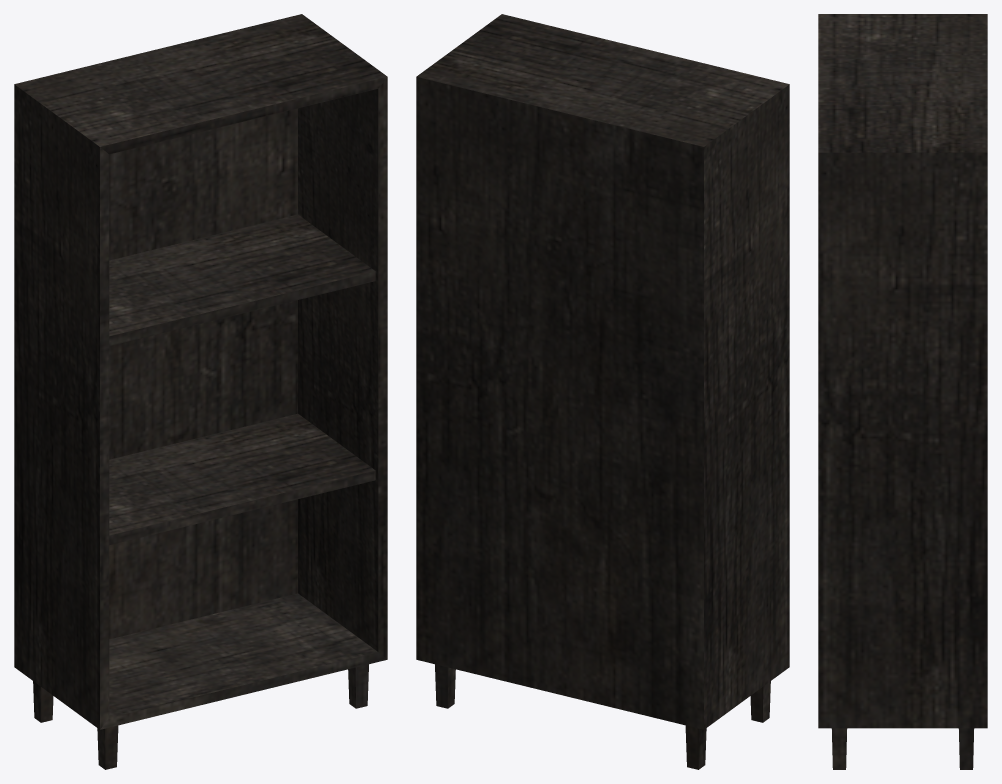
File: shelf_mp_2.obj
The picture shows the model from 3 angles, left to right: view 1: azimuth 30°, elevation 25°; view 2: azimuth 150°, elevation 25°; view 3: azimuth 270°, elevation 25°; orthographic projection.
Visible parts, largest first — view 1: shelf_mp_2; view 2: shelf_mp_2; view 3: shelf_mp_2.
Boxes of the visible parts, box(x1,y1,x2,y2) form: shelf_mp_2: box(14, 14, 387, 769); shelf_mp_2: box(416, 14, 789, 769); shelf_mp_2: box(818, 14, 987, 769).
Size of the model in its own units: 0.62 by 1.3 by 0.32.
